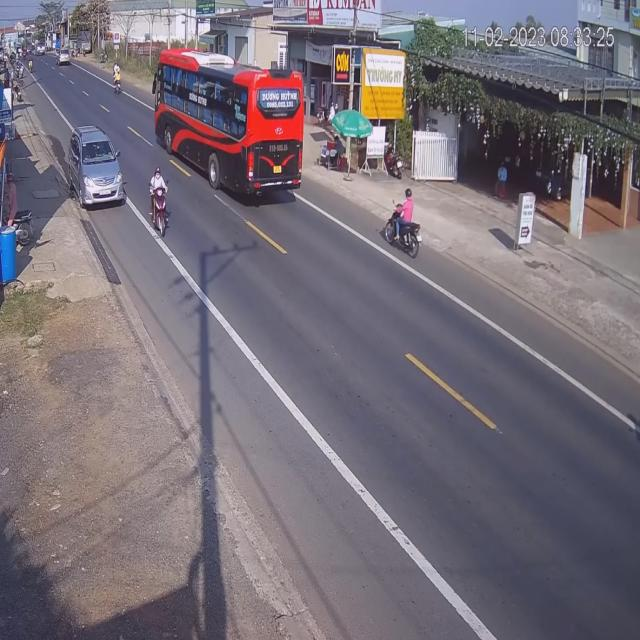bus: (149, 48, 303, 205)
car: (68, 125, 124, 209)
motorbike: (380, 190, 419, 260), (148, 169, 170, 240), (112, 65, 122, 94)
